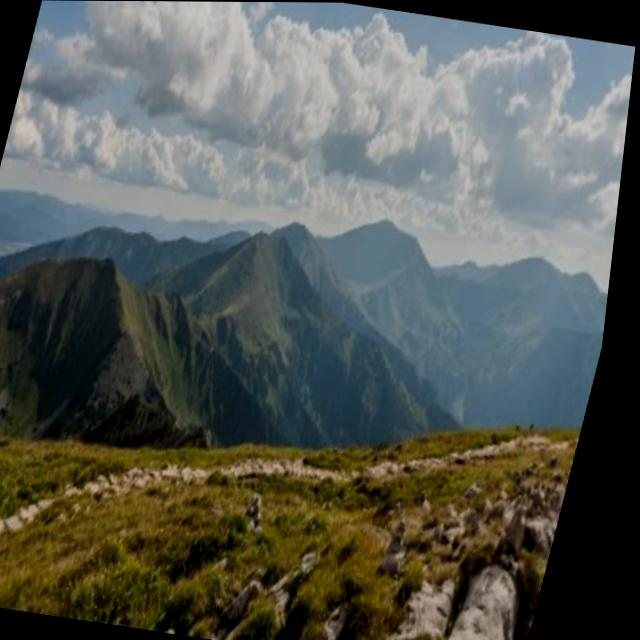Bystra: (340, 171, 433, 271)
Polska Tomanova: (0, 161, 228, 352)
Smreciny: (229, 184, 315, 287)
Velka Kamenista: (259, 178, 341, 267)
